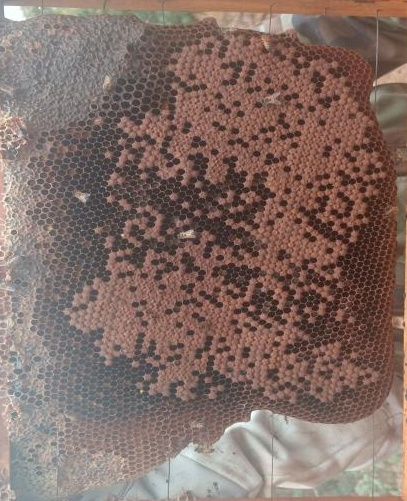cria: (65, 34, 389, 404)
